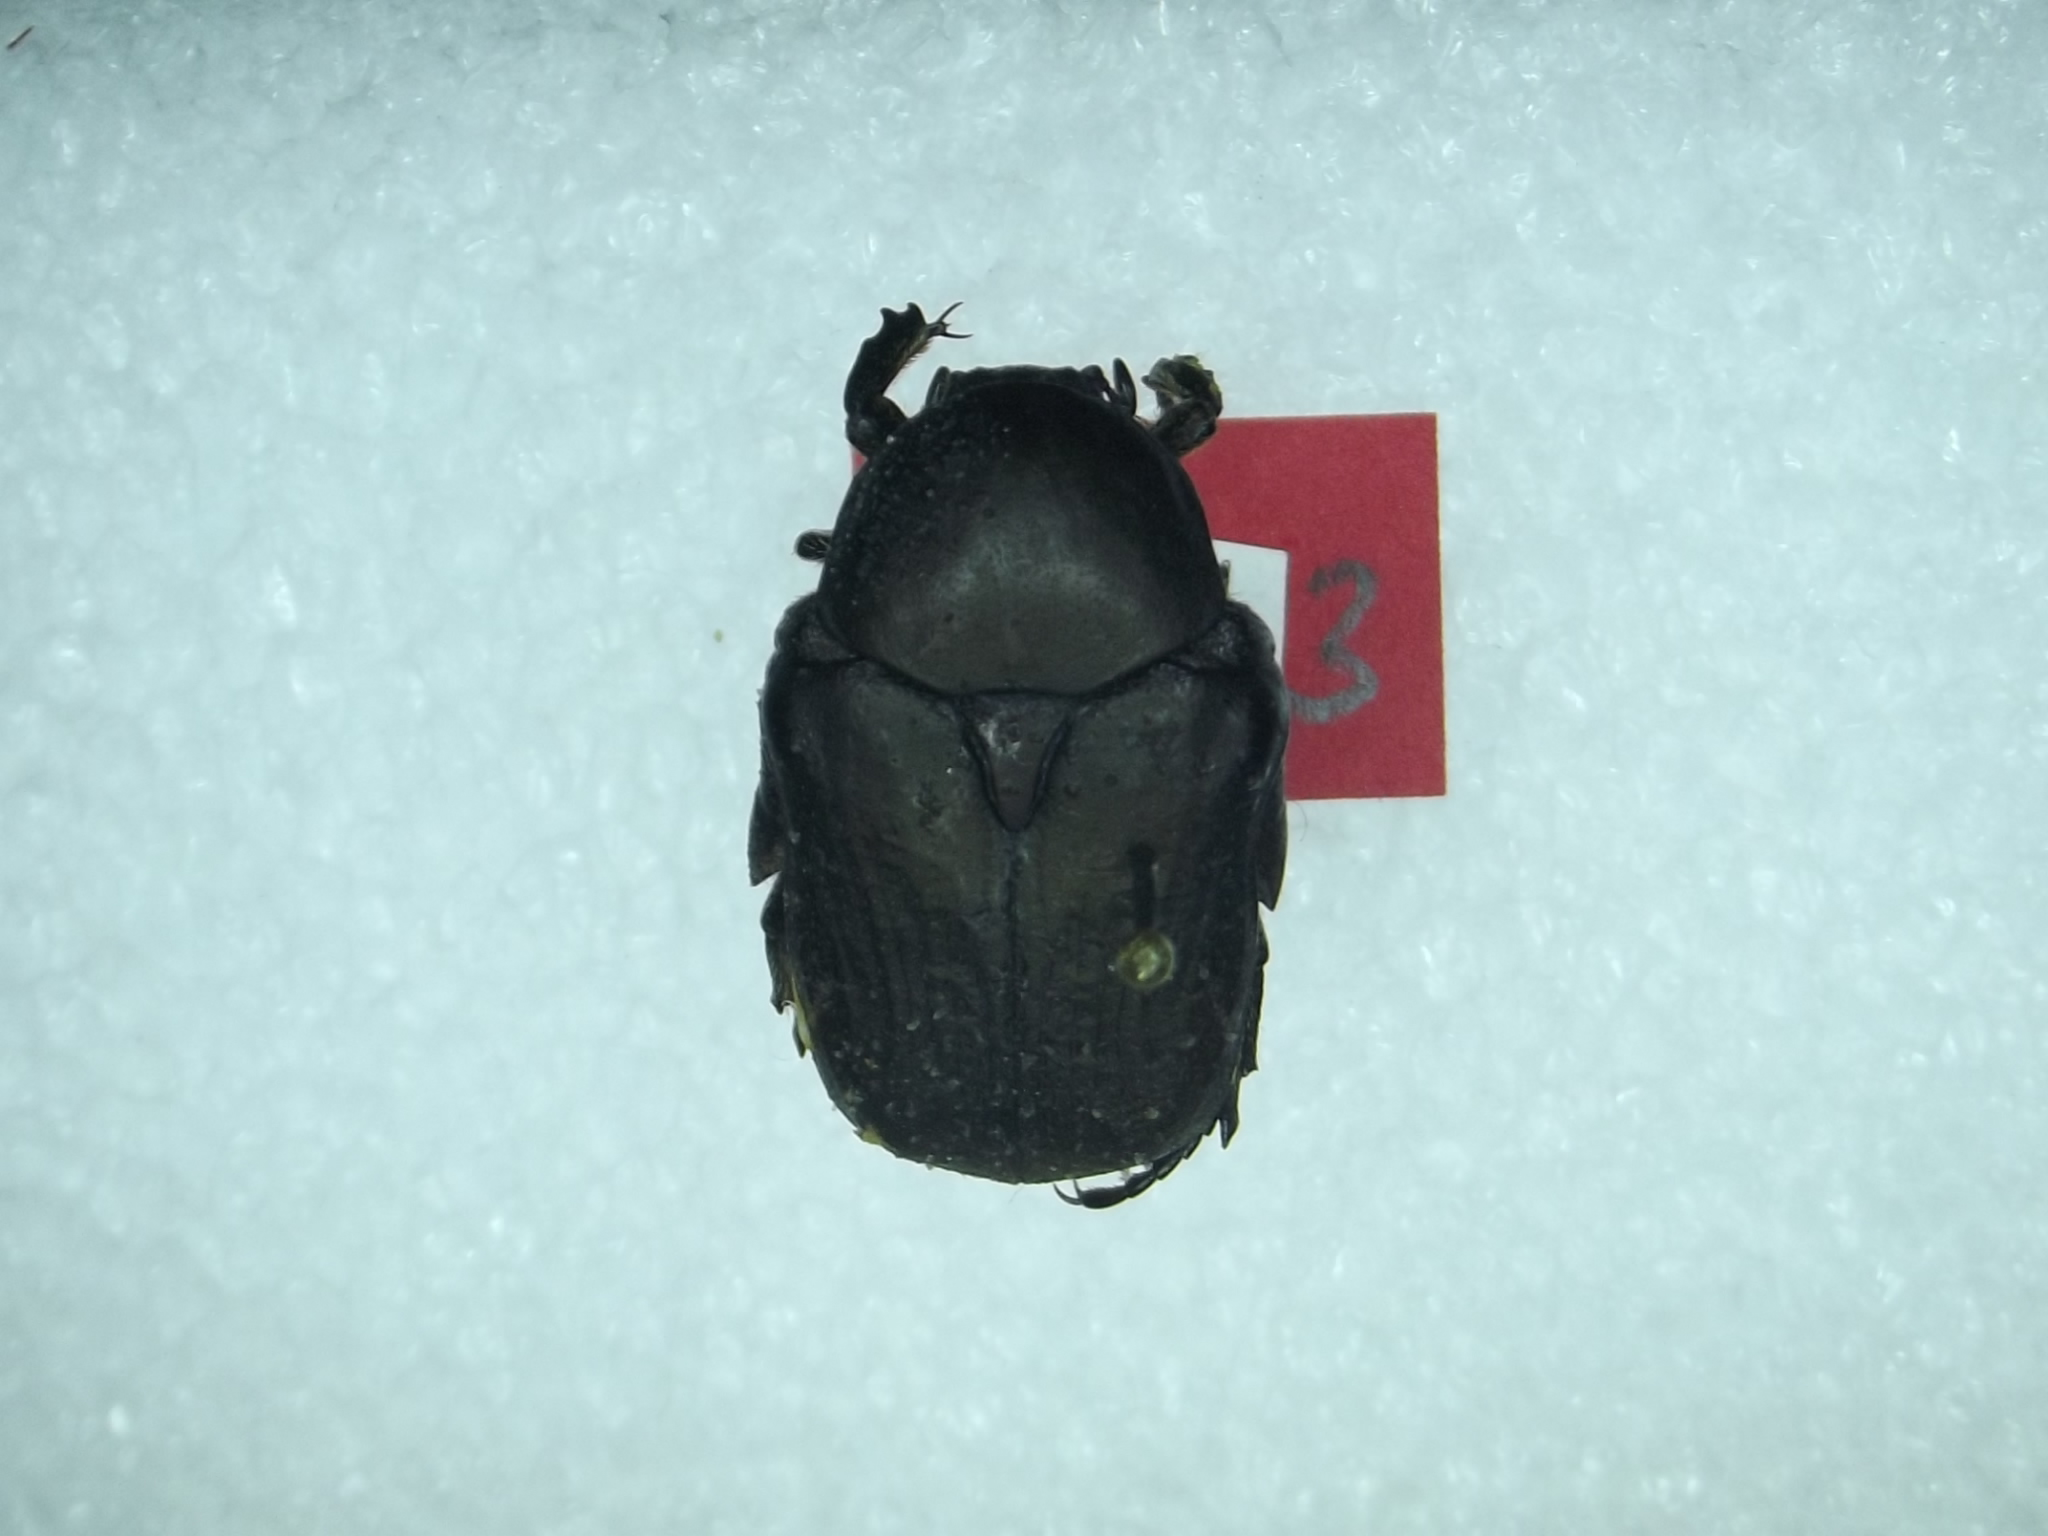Protaetia_oblonga: (731, 289, 1297, 1228)
